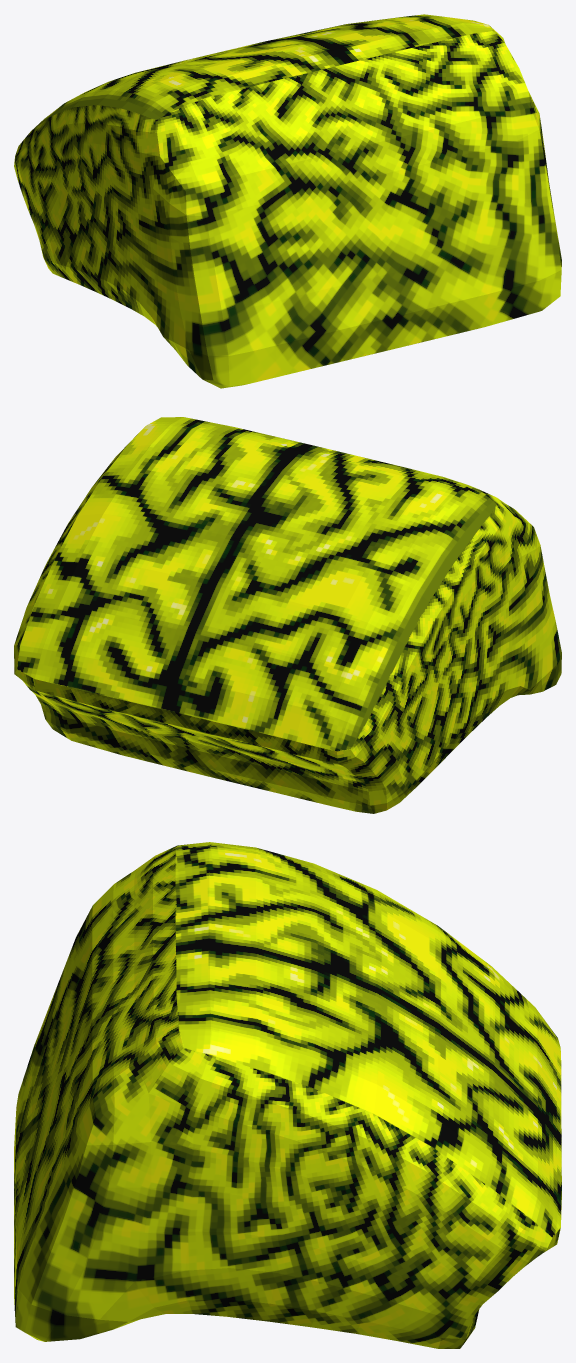
File: Parietal.player.fbx
The picture shows the model from 3 angles, top to bottom: view 1: azimuth 30°, elevation 25°; view 2: azimuth 150°, elevation 25°; view 3: azimuth 270°, elevation 25°; orthographic projection. The views are drawn at different scales.
Parts seen in each view (by area): view 1: parietal; view 2: parietal; view 3: parietal.
Boxes of the visible parts, x1,y1,x2,y2 form: parietal: (14, 14, 561, 388); parietal: (14, 417, 561, 813); parietal: (14, 842, 561, 1348).
Bounding box in the file's own units: 218 × 138 × 213.
1 material, 1 textured.
